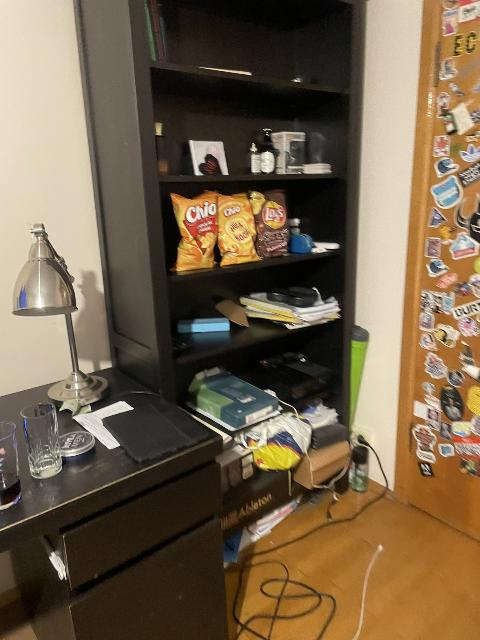Chio Cascaval 125g: (169, 190, 217, 272)
Chio Hula Hoops Cheese 70g: (216, 190, 260, 267)
Lays Beef Grilled Ribs 125g: (253, 189, 291, 260)
